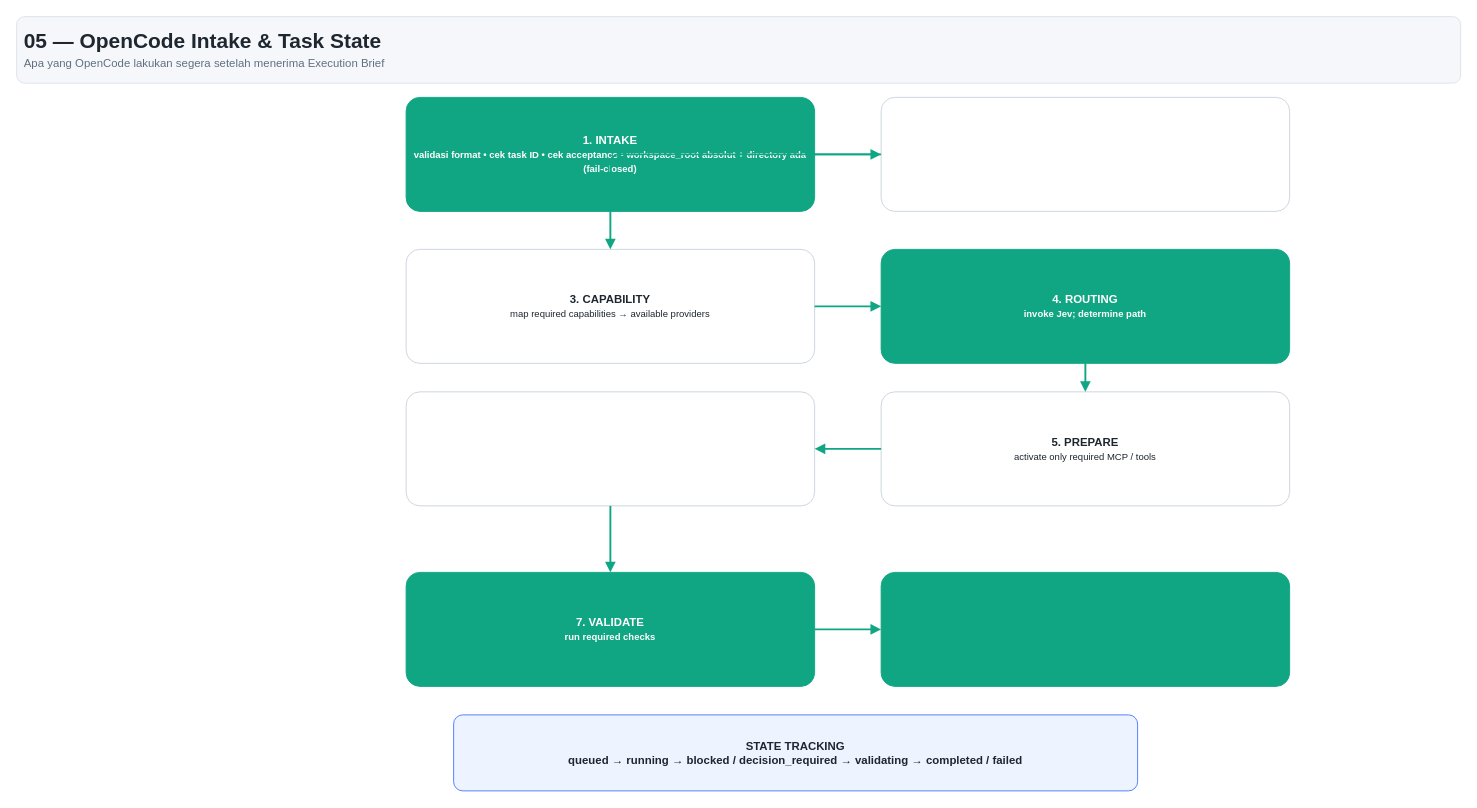
This 1477x808 diagram has some shape labels left out. The box of each missing label's shape, as (x1, y1, x2, y2) in pixels:
2. WORKSPACE inspect repository • files • git • current state: (880, 96, 1290, 211)
6. EXECUTE agent(s) perform work: (405, 391, 815, 506)
8. PACKAGE build Result Contract: (880, 571, 1290, 686)
